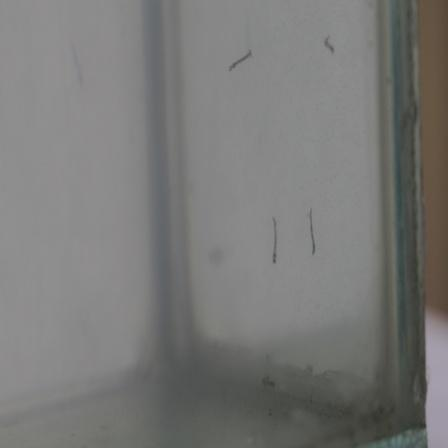Jentik-Nyamuk: (264, 213, 284, 266)
